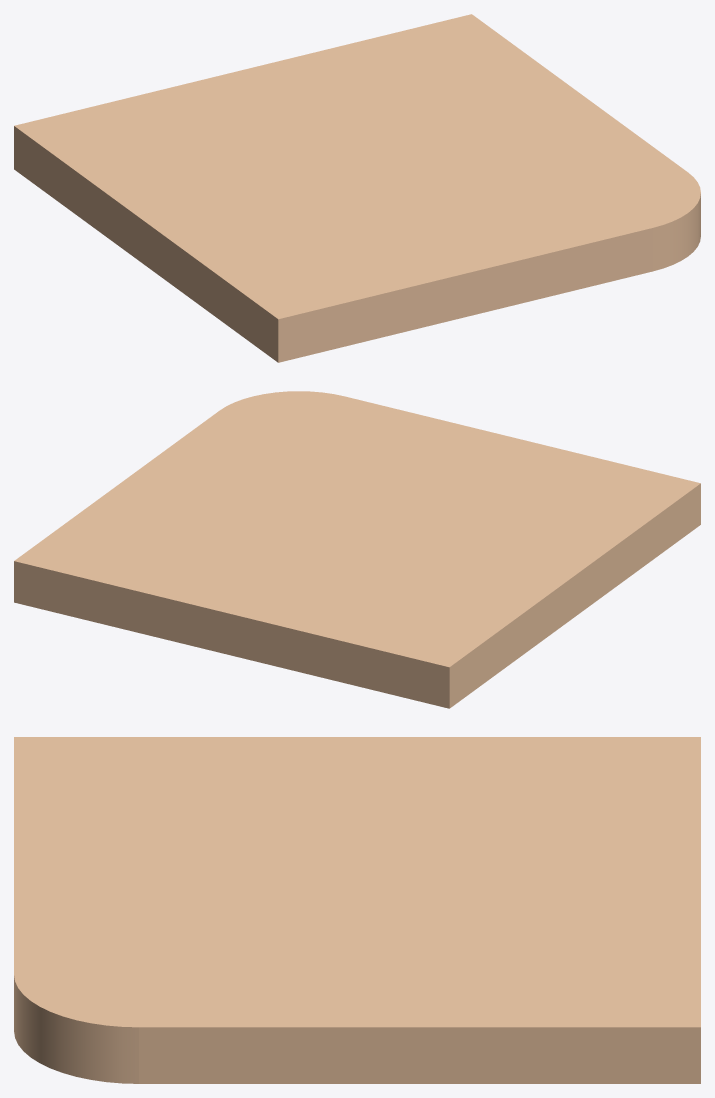
Rendered from floorCornerRound.glb.
3 renders of one model, top to bottom at view 1: azimuth 30°, elevation 25°; view 2: azimuth 150°, elevation 25°; view 3: azimuth 270°, elevation 25°, orthographic. The views are drawn at different scales.
Visible parts, largest first — view 1: floorCornerRound(Clone); view 2: floorCornerRound(Clone); view 3: floorCornerRound(Clone).
Boxes of the visible parts, x1,y1,x2,y2 form: floorCornerRound(Clone): (14, 14, 700, 362); floorCornerRound(Clone): (14, 391, 700, 708); floorCornerRound(Clone): (14, 737, 700, 1083).
Size of the model in its own units: 0.55 by 0.05 by 0.55.
